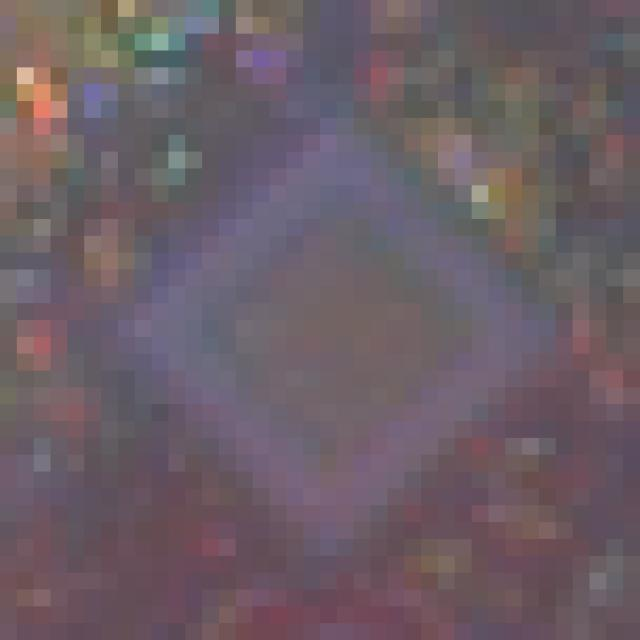Main Road: (102, 85, 557, 557)
